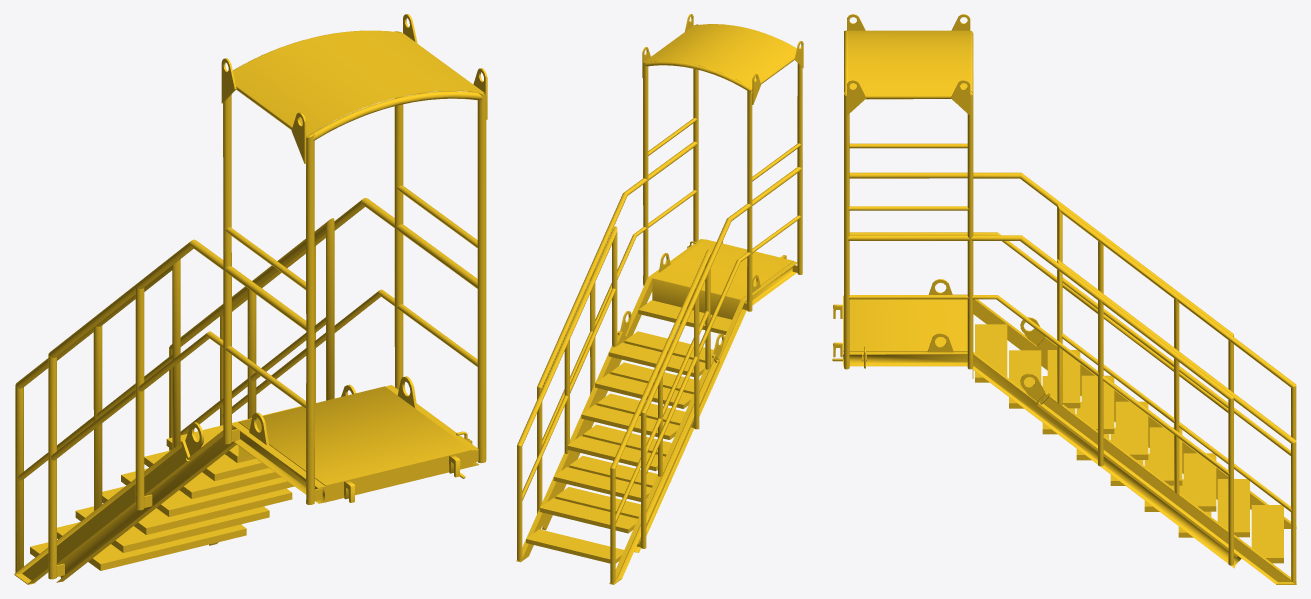
File: Escada.fbx
The picture shows the model from 3 angles, left to right: view 1: azimuth 30°, elevation 25°; view 2: azimuth 150°, elevation 25°; view 3: azimuth 270°, elevation 25°; orthographic projection. The views are drawn at different scales.
Parts seen in each view (by area): view 1: Escada; view 2: Escada; view 3: Escada.
Boxes of the visible parts, x1=… form: Escada: x1=14, y1=14, x2=487, y2=584; Escada: x1=516, y1=14, x2=803, y2=584; Escada: x1=832, y1=14, x2=1296, y2=584.
Bounding box in the file's own units: 121 × 430 × 356.
